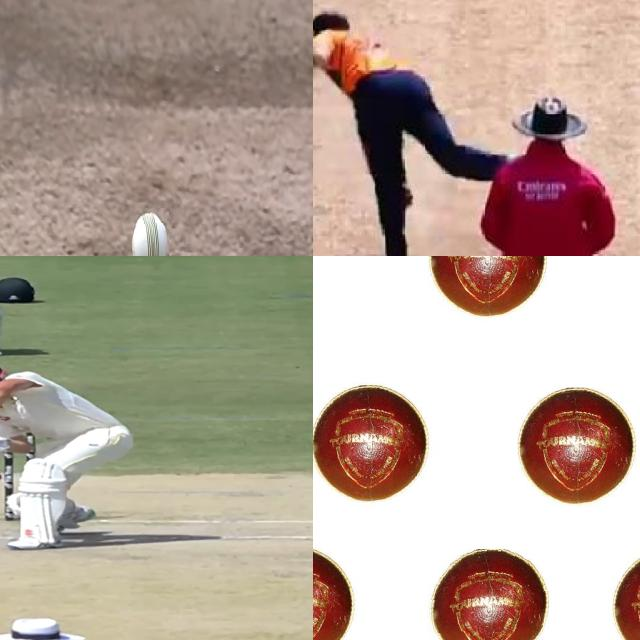Cricket ball: (515, 384, 638, 506), (313, 381, 428, 499), (425, 549, 550, 640), (424, 256, 549, 322), (313, 544, 357, 640), (129, 208, 169, 256)
